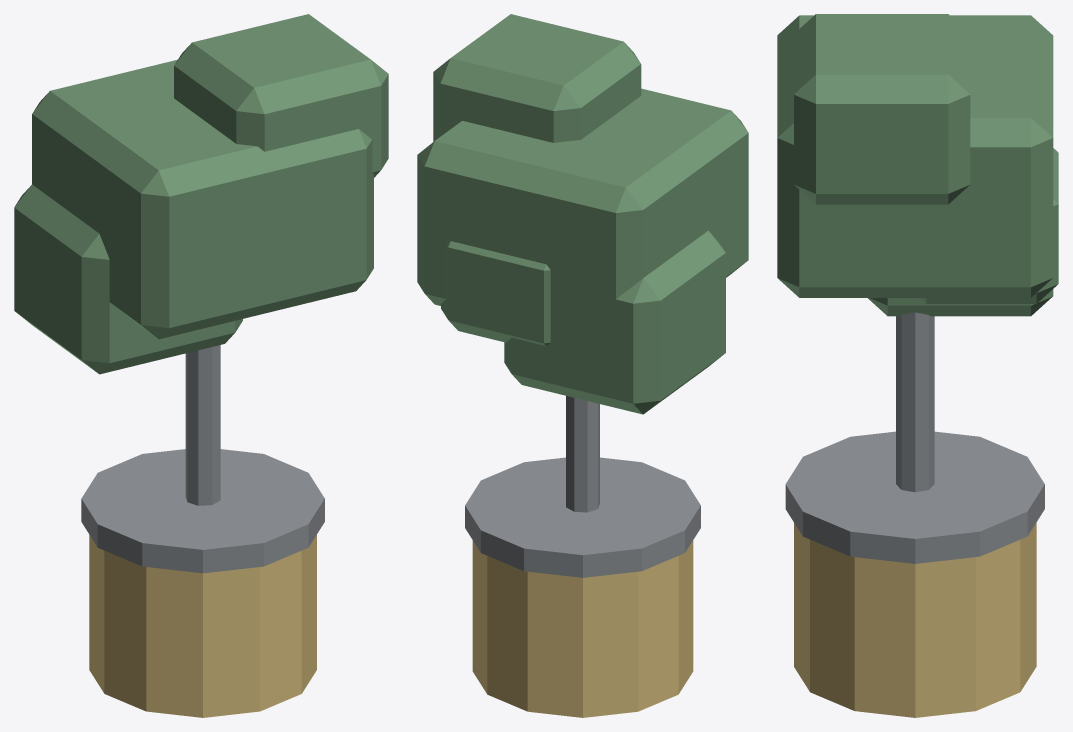
File: P_plant.fbx
The picture shows the model from 3 angles, left to right: view 1: azimuth 30°, elevation 25°; view 2: azimuth 150°, elevation 25°; view 3: azimuth 270°, elevation 25°; orthographic projection. The views are drawn at different scales.
Visible parts, largest first — view 1: P_plant; view 2: P_plant; view 3: P_plant.
Boxes of the visible parts, <box> form: P_plant: <box>14,14,388,717</box>; P_plant: <box>417,14,748,717</box>; P_plant: <box>777,14,1058,717</box>.
Size of the model in its own units: 0.61 by 1.31 by 0.51.
